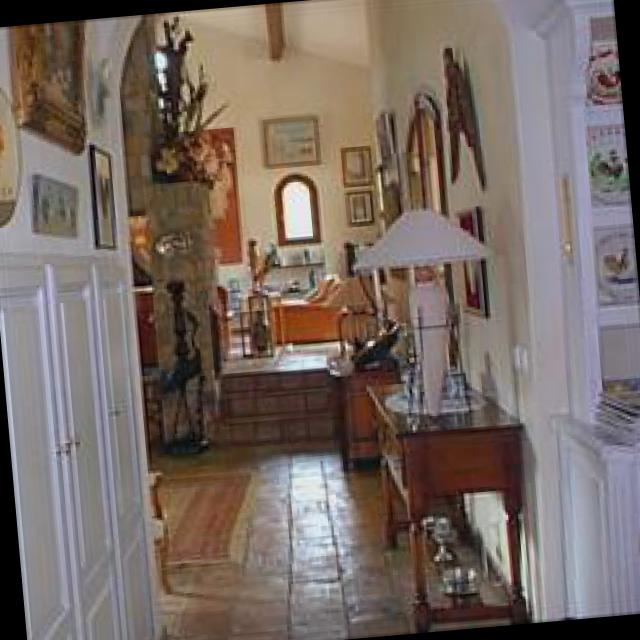painting crop: (13, 19, 88, 150), (458, 203, 490, 315), (94, 142, 125, 249), (265, 109, 323, 164), (34, 172, 82, 235), (347, 142, 378, 180), (351, 185, 379, 222)
